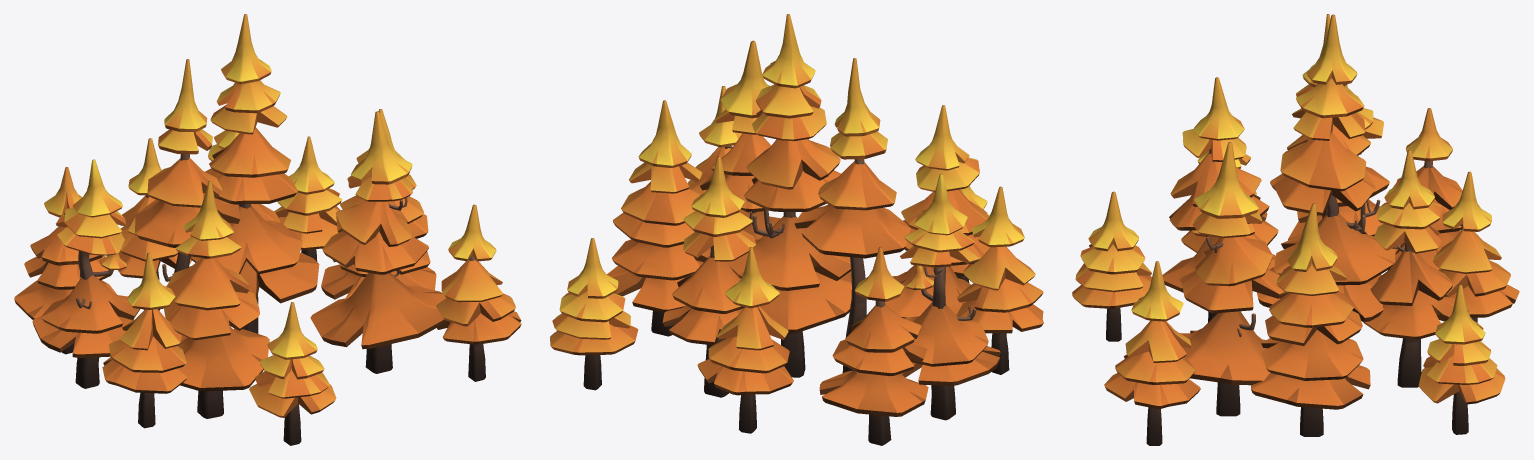
File: pine_tree_arrangement_col2.fbx
3 renders of one model, left to right at view 1: azimuth 30°, elevation 25°; view 2: azimuth 150°, elevation 25°; view 3: azimuth 270°, elevation 25°, orthographic. The views are drawn at different scales.
Visible parts, largest first — view 1: tree_pine_arrangement_col2; view 2: tree_pine_arrangement_col2; view 3: tree_pine_arrangement_col2.
Boxes of the visible parts, x1,y1,x2,y2 form: tree_pine_arrangement_col2: (14, 14, 521, 445); tree_pine_arrangement_col2: (550, 14, 1043, 445); tree_pine_arrangement_col2: (1072, 14, 1519, 445).
Bounding box in the file's own units: 1859 × 1573 × 1789.
1 material, 1 textured.
